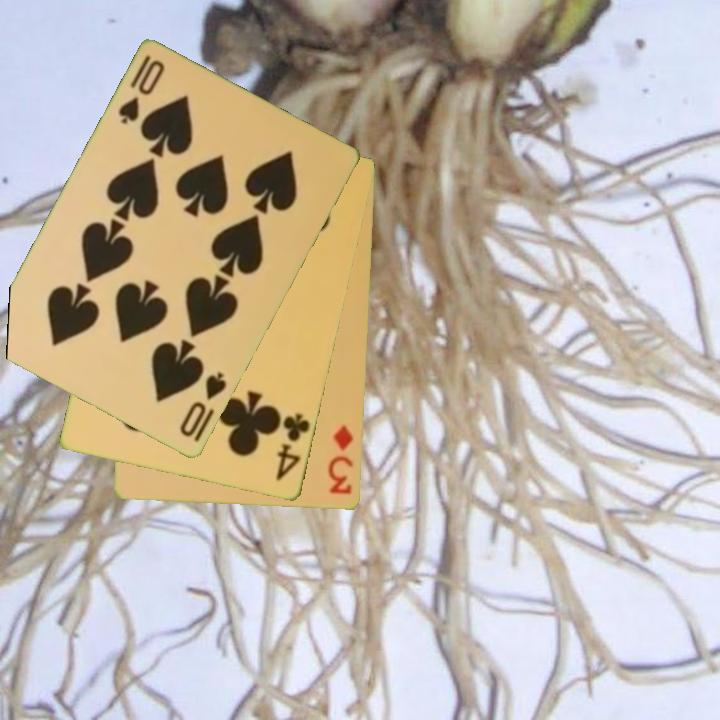10s: (115, 52, 168, 128), (176, 368, 230, 441)
3d: (325, 422, 356, 498)
4c: (272, 410, 314, 484)
